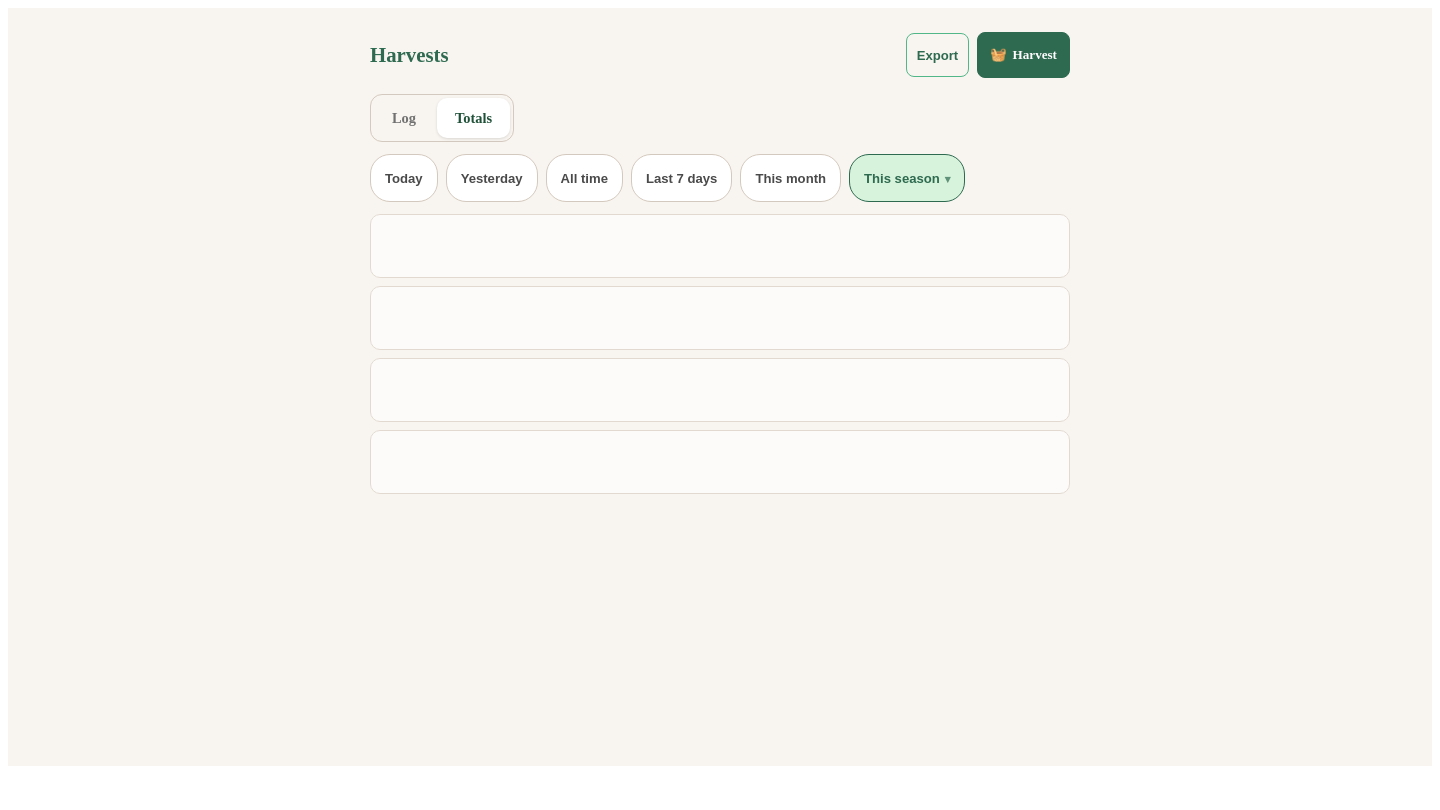
Test: Harvests page › filters the log by project via the picker
Click the radio button labelled "Log" at (404, 118), box [374,98,434,138]
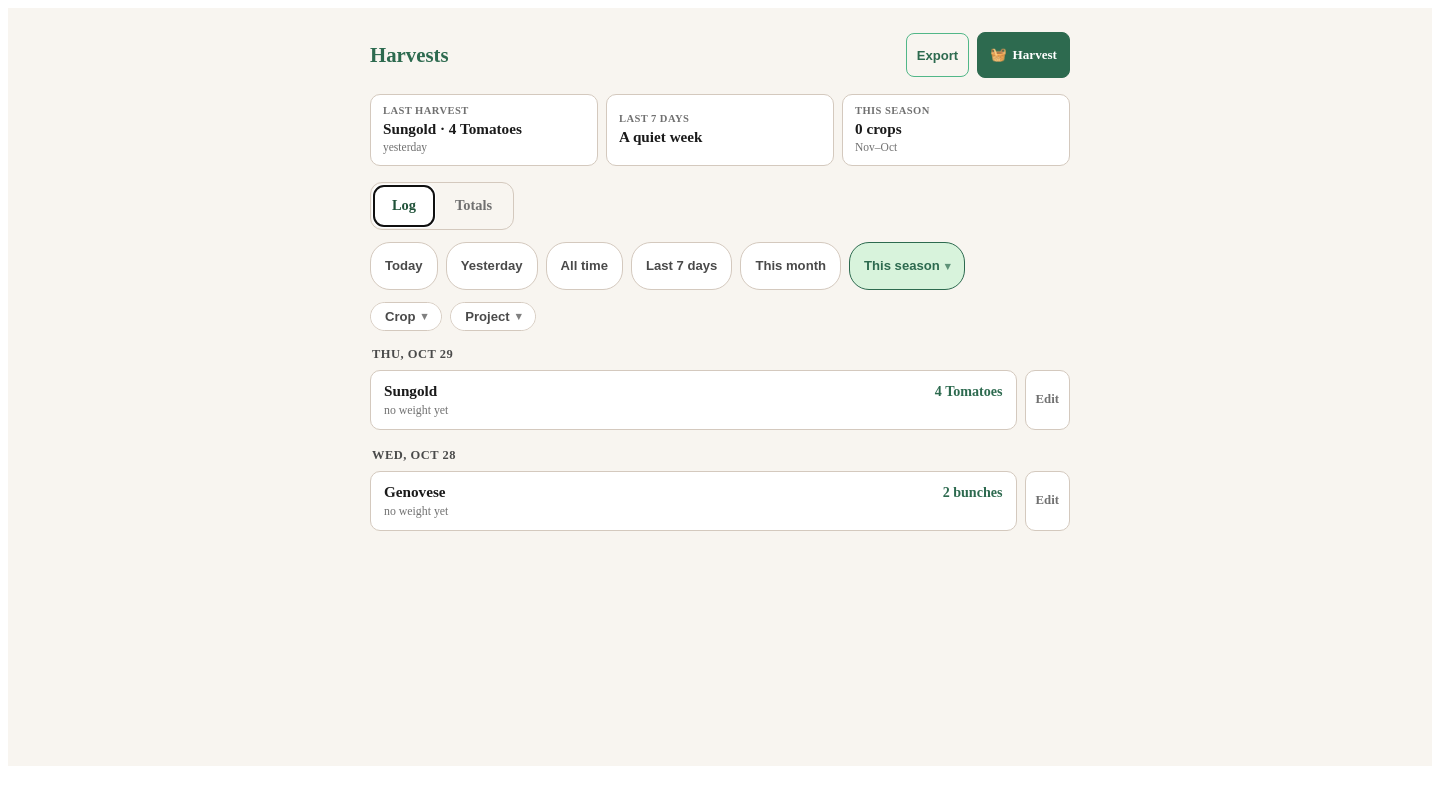
Expected: the text "Sungold" is shown, [384,382,437,400]
Click the button with aria-label "filter by project" at (493, 316), box [451,303,535,330]
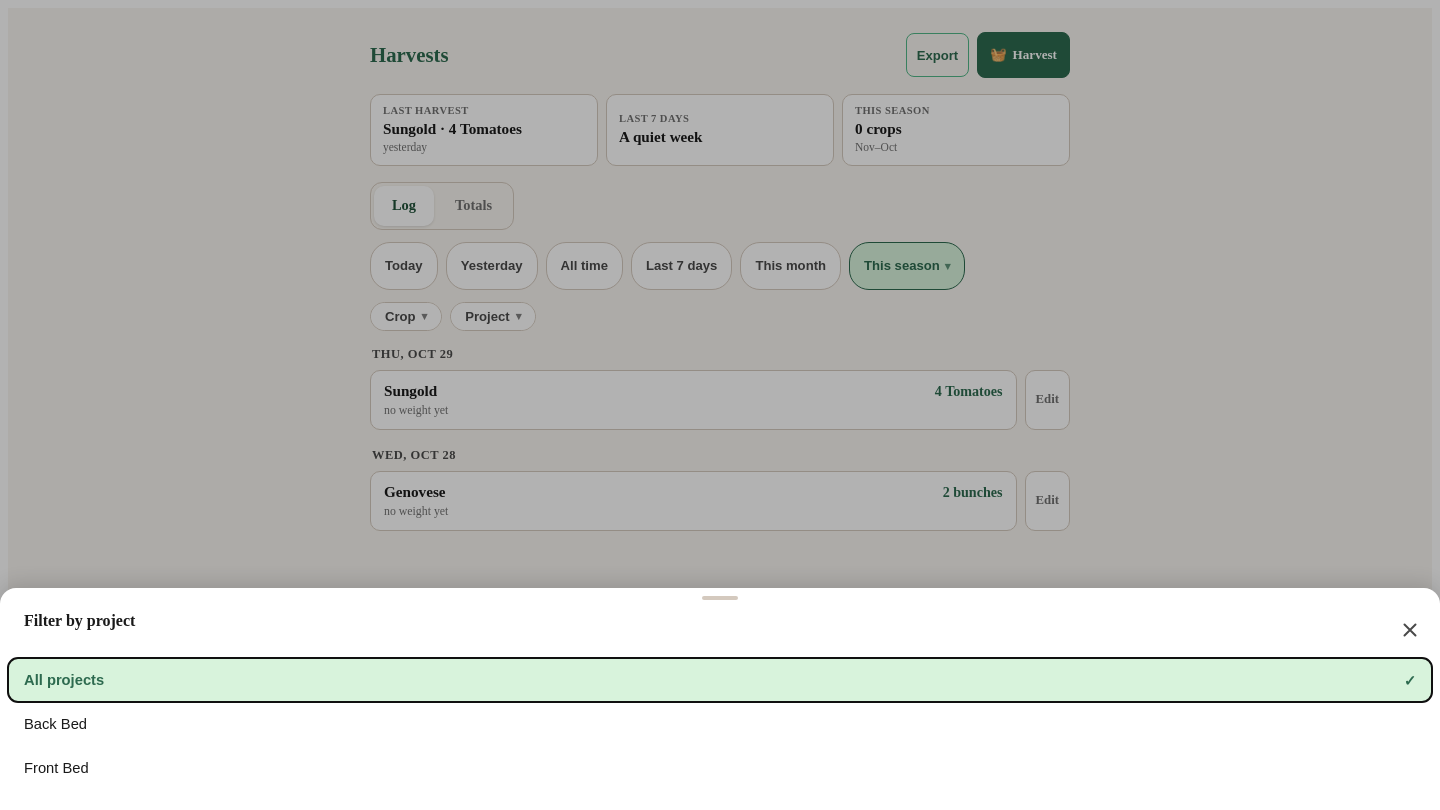
Click the option "Front Bed" at (56, 768), box [8,746,1432,790]
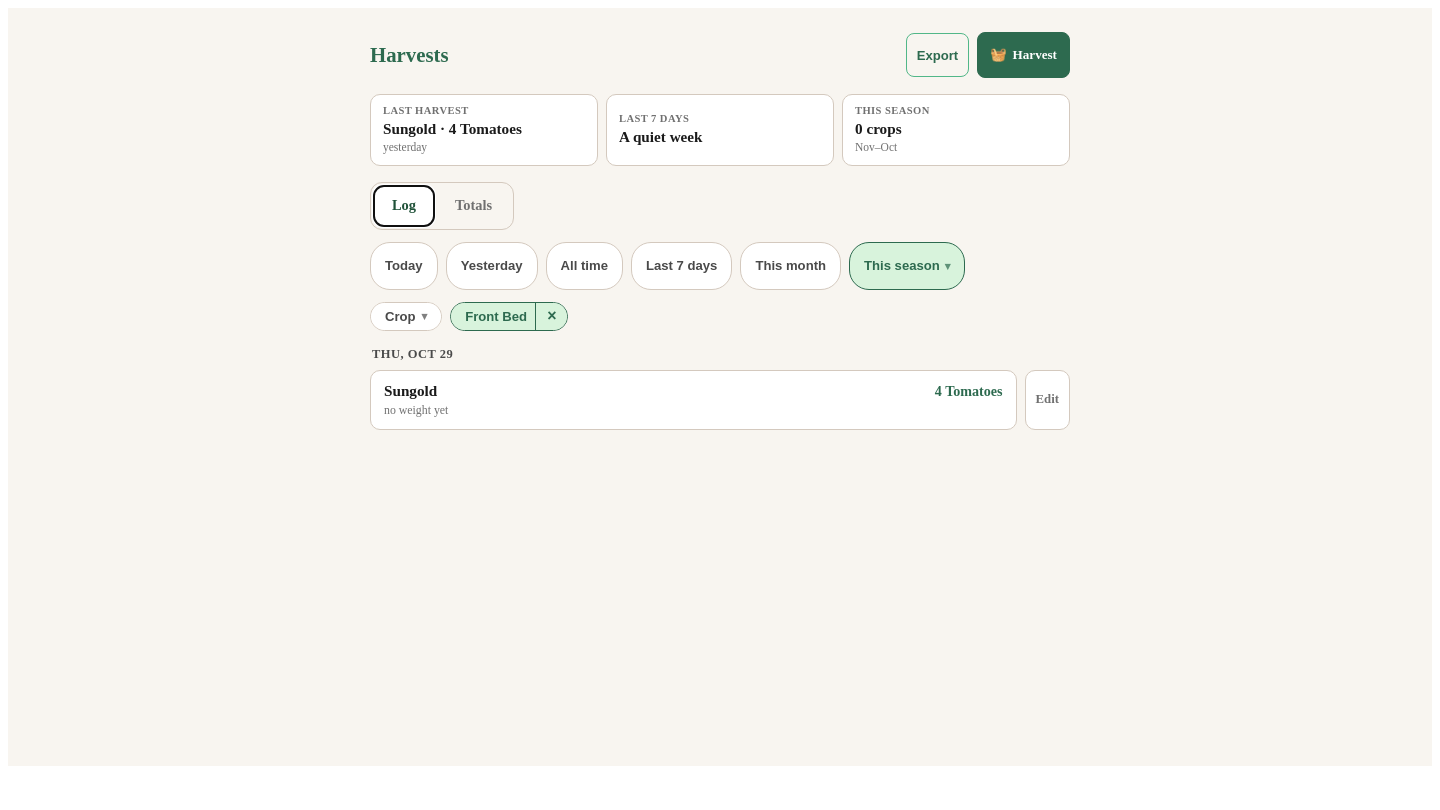
Expected: the text "Sungold" is shown, [384,382,437,400]
Expected: the link "Genovese" is gone
Expected: the button named "clear project filter" is shown, [535,303,567,330]
